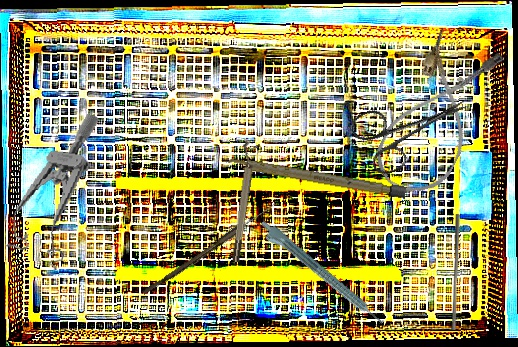Cannula: (366, 24, 509, 206)
Fixation Ring: (224, 141, 261, 263)
Handpiece: (254, 217, 387, 333)
Iris Scissors: (347, 71, 481, 181)
Pusher: (451, 214, 460, 330)
Scalpel Handle: (225, 155, 407, 199)
Speculum: (3, 104, 100, 273)
Surgical Spoon: (142, 200, 277, 298)
